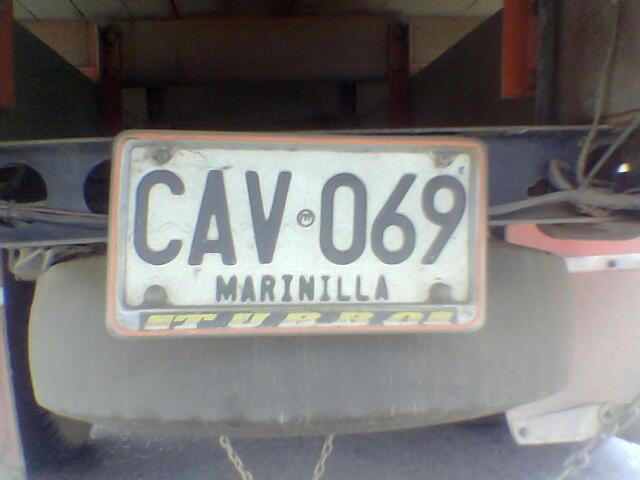placas: (110, 121, 492, 340)
